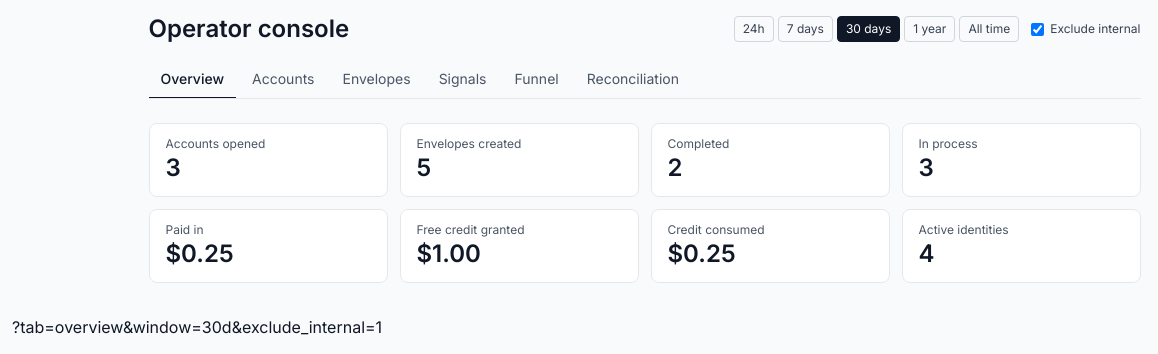
Test: AdminConsolePage — F-34.7 view-state persistence (AC-202) › changing a control writes both the URL and localStorage
The width and height of the screenshot is (1158, 354).
Expected: the button with test id "admin-kpi-accountsOpened" is shown, [148, 123, 388, 197]
Click the button with test id "admin-window-7d": [805, 29] box [778, 16, 833, 42]
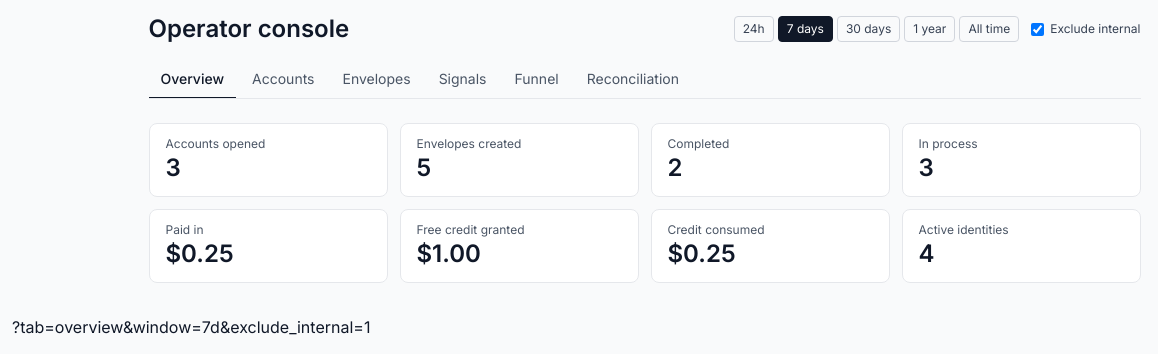
Expected: the text with test id "loc-search" shows "window=7d", [12, 317, 370, 337]
